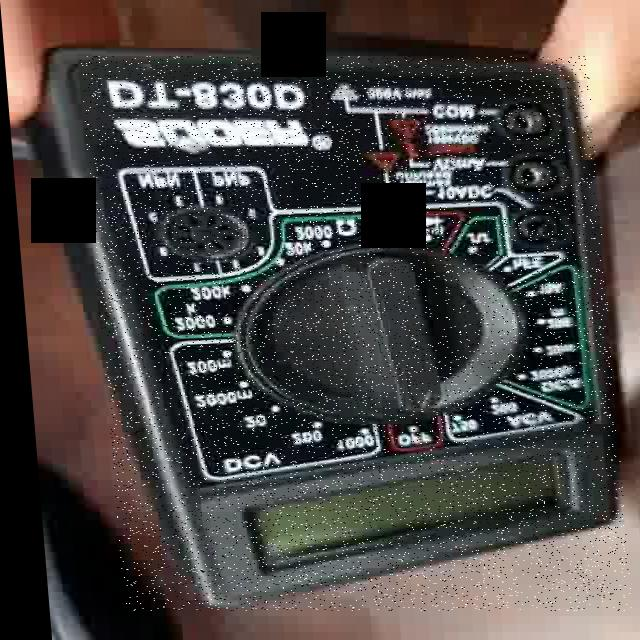multimeter: (78, 56, 622, 611)
